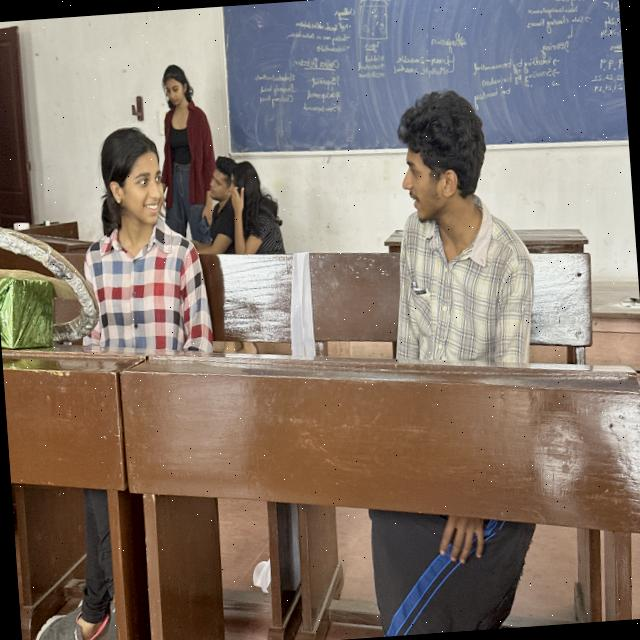no-seatbelt: (360, 170, 561, 402), (43, 194, 220, 418)
